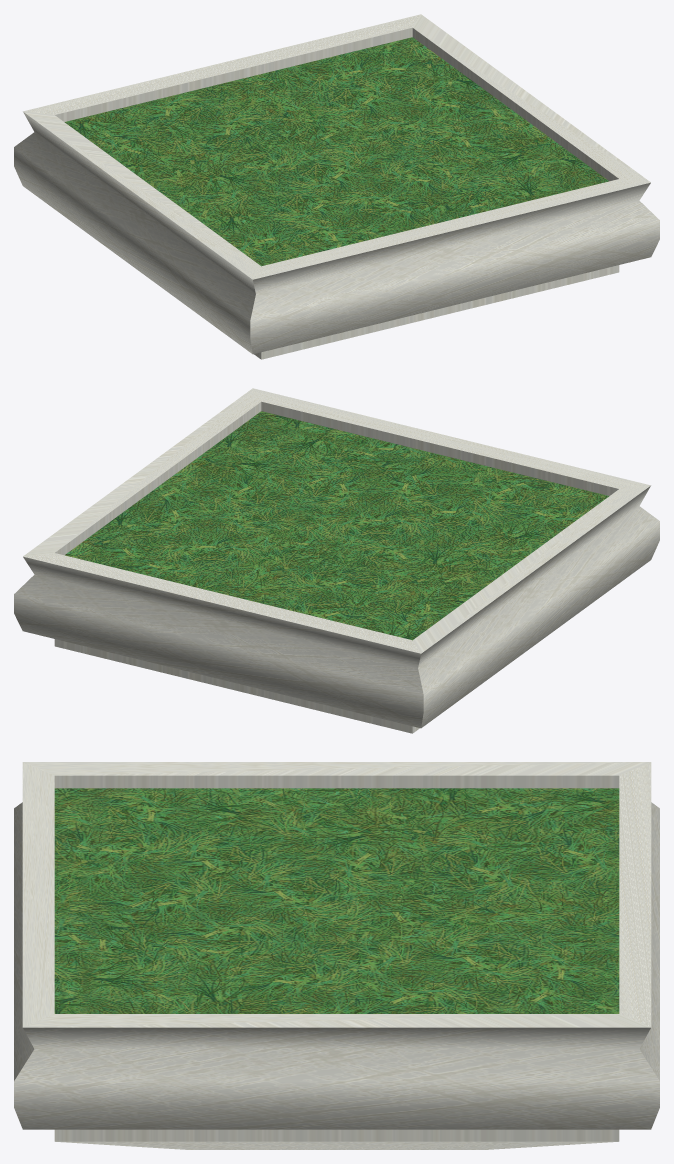
The model's file is platform.obj.
The picture shows the model from 3 angles, top to bottom: view 1: azimuth 30°, elevation 25°; view 2: azimuth 150°, elevation 25°; view 3: azimuth 270°, elevation 25°; orthographic projection. The views are drawn at different scales.
Parts seen in each view (by area): view 1: Box001, Box002; view 2: Box001, Box002; view 3: Box002, Box001.
Part boxes in pixels (x1,y1,x2,y2): Box001: [14, 14, 659, 359]; Box002: [64, 37, 608, 266]; Box001: [14, 388, 659, 733]; Box002: [65, 411, 609, 640]; Box002: [54, 788, 619, 1013]; Box001: [14, 762, 659, 1149].
Bounding box in the file's own units: 37.13 × 12.18 × 37.13.
